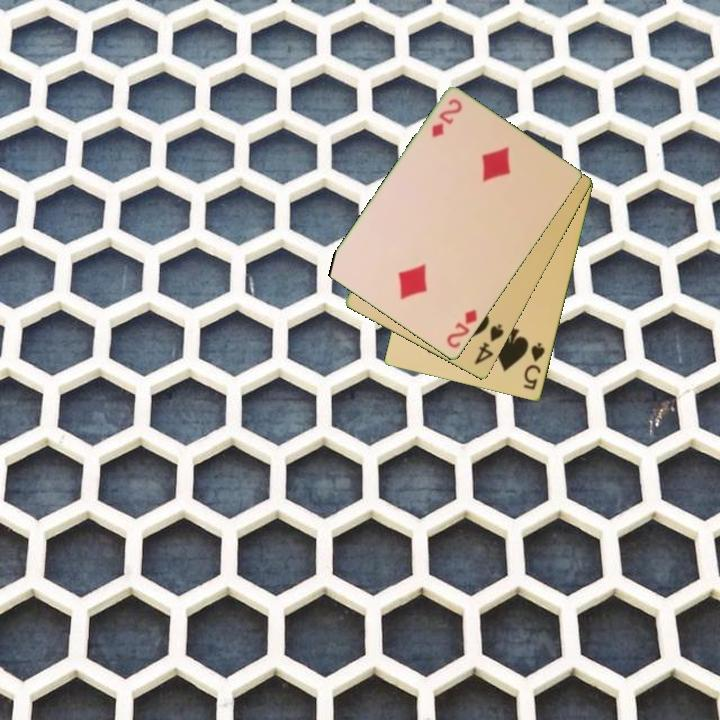2d: (443, 306, 480, 352), (428, 95, 465, 141)
4s: (471, 321, 507, 368)
5s: (520, 339, 548, 393)
